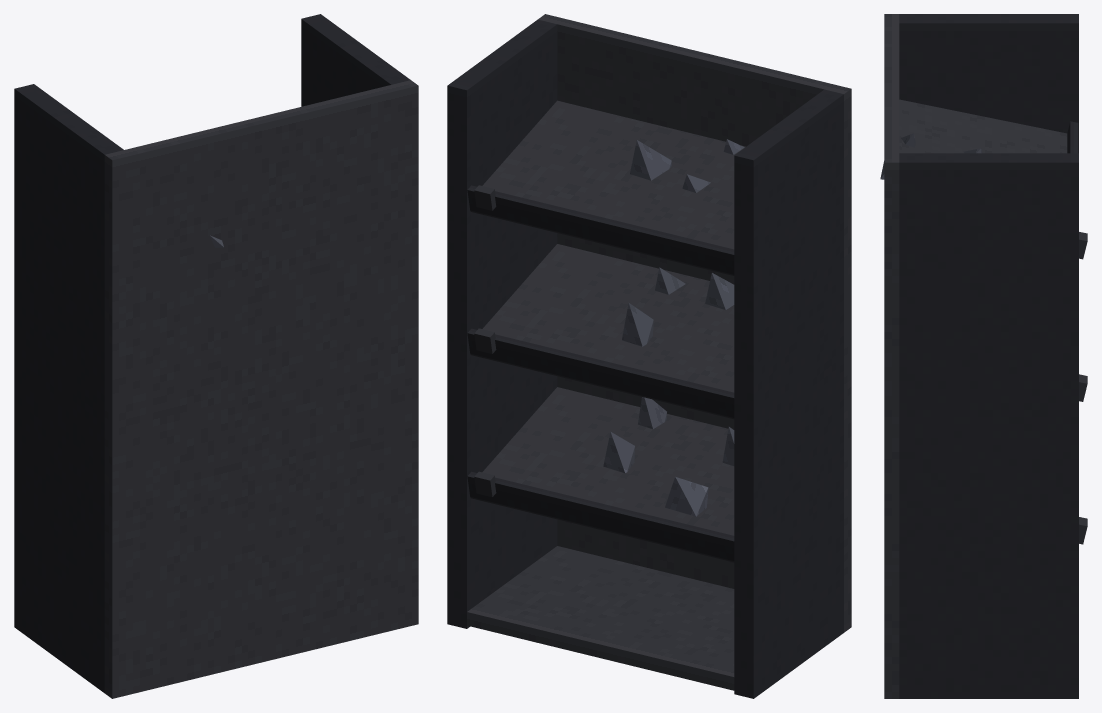
Rendered from f_vitrified_rack.glb.
The picture shows the model from 3 angles, left to right: view 1: azimuth 30°, elevation 25°; view 2: azimuth 150°, elevation 25°; view 3: azimuth 270°, elevation 25°; orthographic projection.
Visible parts, largest first — view 1: block_back, block_side--0.43999999999999995, block_side-0.43999999999999995; view 2: block_sloped-display-tray (×3), block_side--0.43999999999999995, block_side-0.43999999999999995, block_back, block_shelf-0, block_retainer (×3), block_fused-glass-miscellany (×6); view 3: block_side-0.43999999999999995, block_side--0.43999999999999995, block_back, block_sloped-display-tray, block_retainer.
Part boxes in pixels (<box>): block_back: <box>104,80,418,698</box>; block_side--0.43999999999999995: <box>14,84,123,692</box>; block_side-0.43999999999999995: <box>301,14,410,106</box>; block_sloped-display-tray (×3): <box>470,100,745,562</box>; block_side--0.43999999999999995: <box>734,89,843,698</box>; block_side-0.43999999999999995: <box>447,19,557,628</box>; block_back: <box>538,14,851,632</box>; block_shelf-0: <box>467,546,734,690</box>; block_retainer (×3): <box>467,185,734,560</box>; block_fused-glass-miscellany (×6): <box>603,140,734,516</box>; block_side-0.43999999999999995: <box>899,153,1078,698</box>; block_side--0.43999999999999995: <box>899,14,1078,153</box>; block_back: <box>884,14,899,698</box>; block_sloped-display-tray: <box>899,99,1067,153</box>; block_retainer: <box>1067,121,1078,153</box>.
Bounding box in the file's own units: 0.94 × 1.58 × 0.5536.
Materials: 1 (1 with a texture image).
